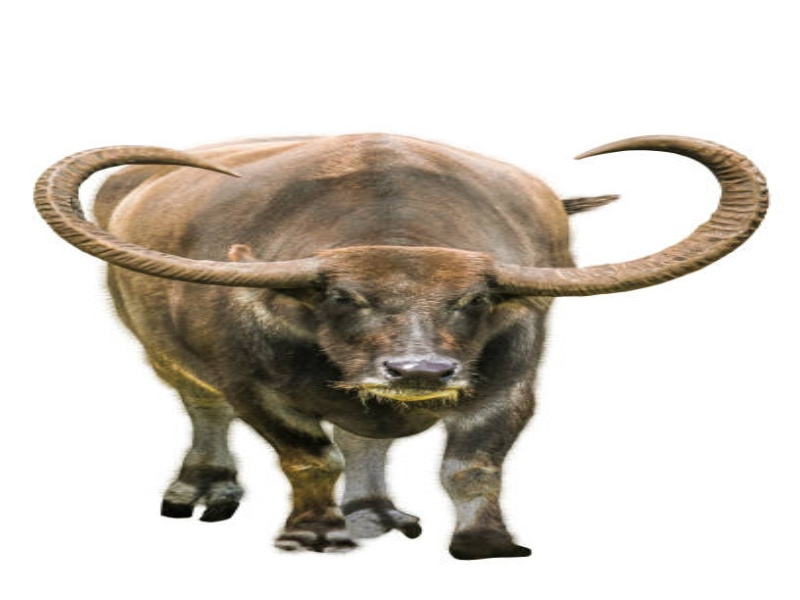buffalo: (27, 123, 773, 563)
